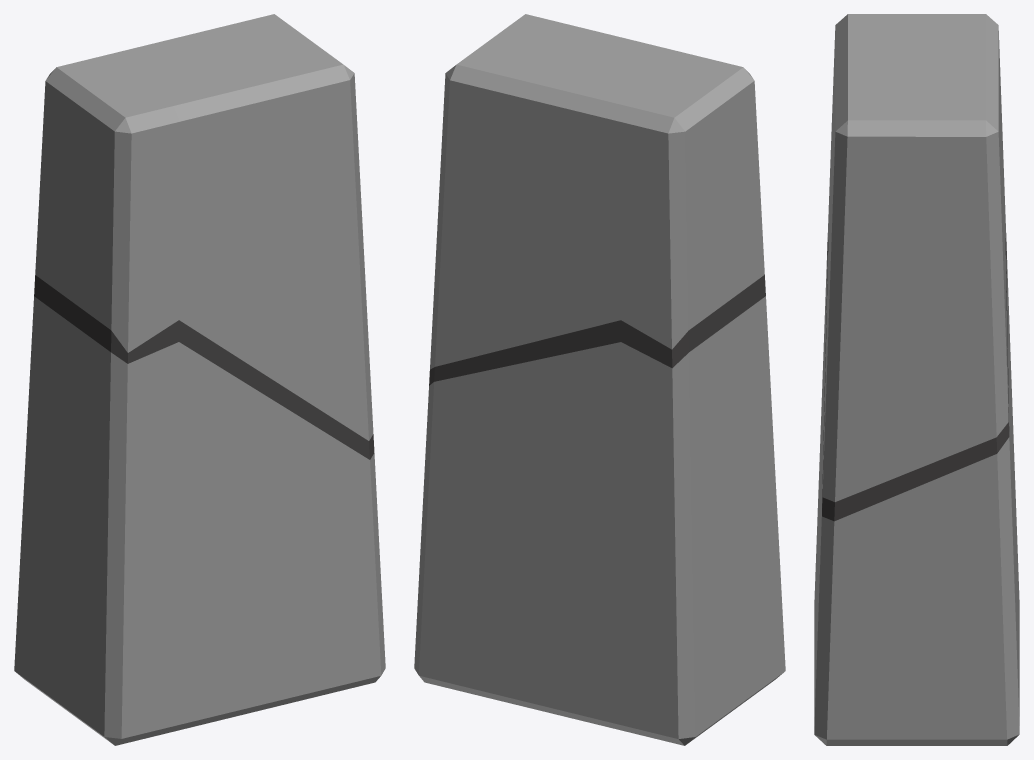
File: Isl_5_Stone_11.fbx
3 views of the same model, side by side, from view 1: azimuth 30°, elevation 25°; view 2: azimuth 150°, elevation 25°; view 3: azimuth 270°, elevation 25° (orthographic).
Parts seen in each view (by area): view 1: Isl_5_Stone_11; view 2: Isl_5_Stone_11; view 3: Isl_5_Stone_11.
Part boxes in pixels (box(x1,y1,x2,y2)): Isl_5_Stone_11: box(14, 14, 385, 745); Isl_5_Stone_11: box(414, 14, 785, 745); Isl_5_Stone_11: box(814, 14, 1019, 745).
Bounding box in the file's own units: 155 × 97.99 × 324.
1 material, 1 textured.
